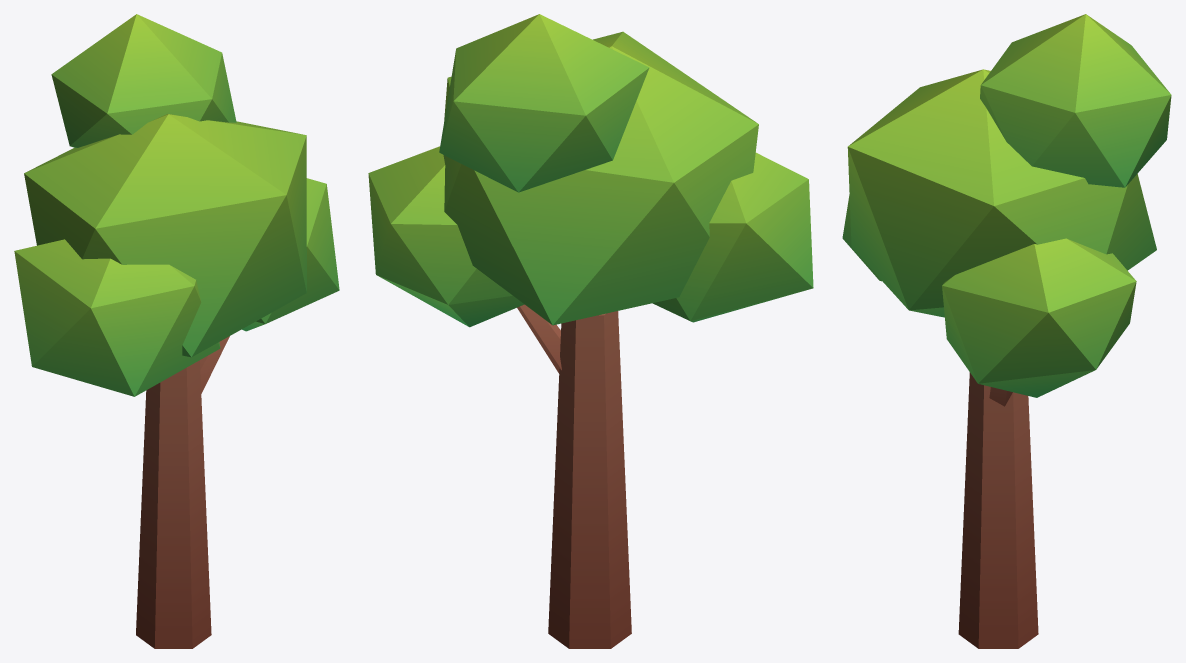
The model's file is tree_round.glb.
3 renders of one model, left to right at view 1: azimuth 30°, elevation 25°; view 2: azimuth 150°, elevation 25°; view 3: azimuth 270°, elevation 25°, orthographic. The views are drawn at different scales.
Parts seen in each view (by area): view 1: tree_round; view 2: tree_round; view 3: tree_round.
Part boxes in pixels (x1,y1,x2,y2): tree_round: (14,14,339,648); tree_round: (368,14,813,648); tree_round: (842,14,1171,648).
Size of the model in its own units: 3.19 by 5.16 by 2.47.
1 material, 1 textured.
